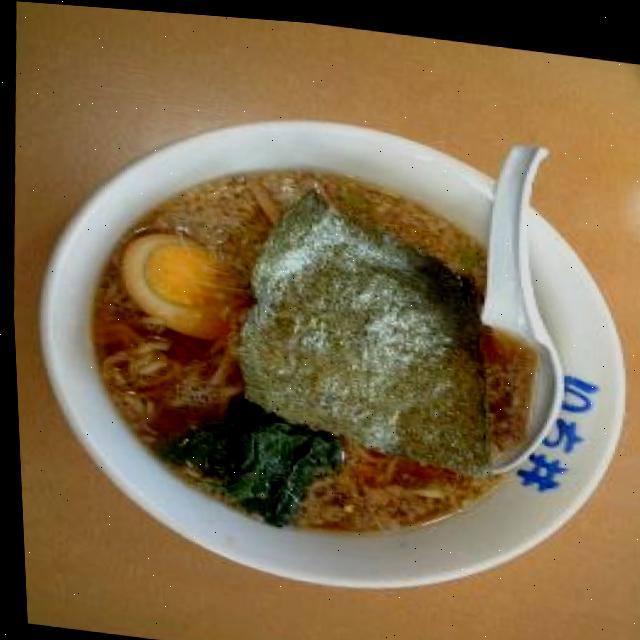面条主食: (14, 64, 640, 615)
